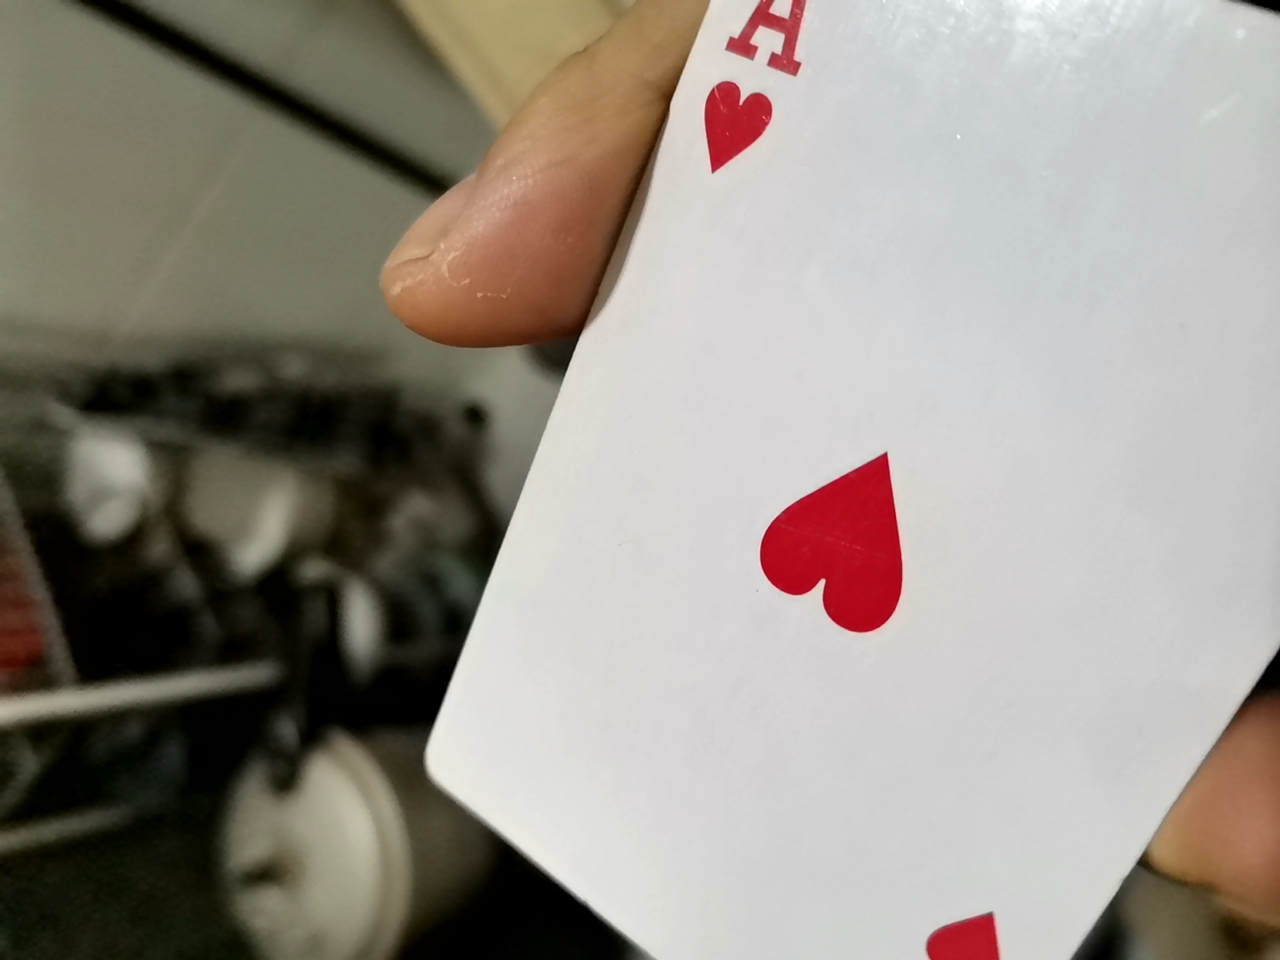hx a: (353, 10, 1272, 955)
